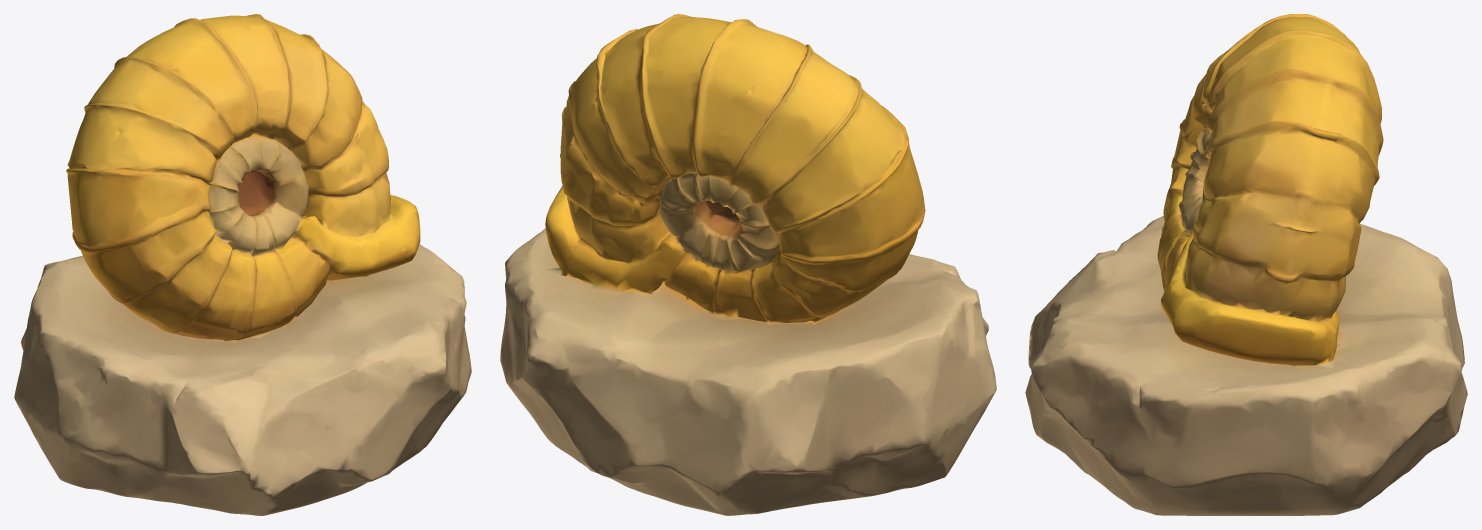
The model's file is ammonite.glb.
3 views of the same model, side by side, from view 1: azimuth 30°, elevation 25°; view 2: azimuth 150°, elevation 25°; view 3: azimuth 270°, elevation 25° (orthographic). The views are drawn at different scales.
Parts seen in each view (by area): view 1: tripo_node_c50d6eb9-5c6f-4047-b415-eb878aa60329; view 2: tripo_node_c50d6eb9-5c6f-4047-b415-eb878aa60329; view 3: tripo_node_c50d6eb9-5c6f-4047-b415-eb878aa60329.
Boxes of the visible parts, x1,y1,x2,y2 form: tripo_node_c50d6eb9-5c6f-4047-b415-eb878aa60329: (14,14,471,515); tripo_node_c50d6eb9-5c6f-4047-b415-eb878aa60329: (500,14,996,515); tripo_node_c50d6eb9-5c6f-4047-b415-eb878aa60329: (1025,14,1467,515).
Size of the model in its own units: 1 by 0.9632 by 0.9366.
1 material, 1 textured.
